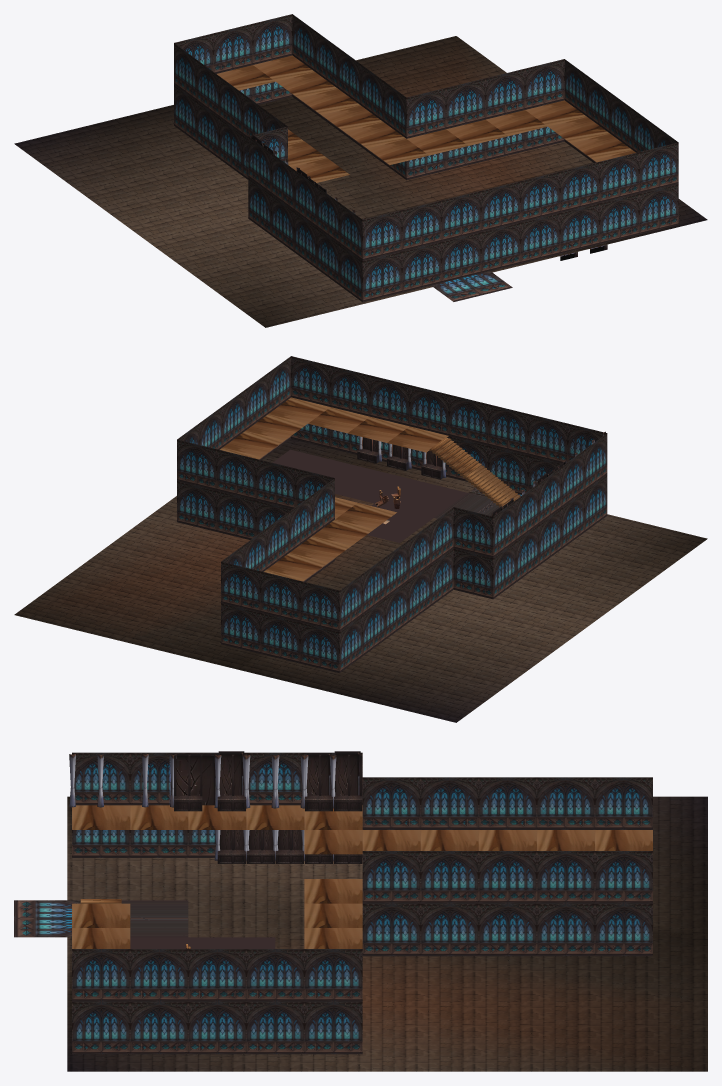
Rendered from inn_map_old.glb.
The picture shows the model from 3 angles, top to bottom: view 1: azimuth 30°, elevation 25°; view 2: azimuth 150°, elevation 25°; view 3: azimuth 270°, elevation 25°; orthographic projection. The views are drawn at different scales.
Visible parts, largest first — view 1: GroundPainted, Plane.001, Plane.003, Plane.024, Plane.037, Plane.042, Plane.044, Plane.045, Plane.057, Plane, Plane.002, Plane.027 (+60 smaller); view 2: GroundPainted, Dungeon, Plane.021, Plane.036, Plane.057, Plane.034, Plane.055, Plane.008, Plane.035, Plane.037, Plane.042, Plane.043 (+56 smaller); view 3: GroundPainted, Dungeon, Plane.068, Plane.004, Plane.005, Plane.006, Plane.007, Plane.012, Plane.013, Plane.014, Plane.030, Plane.031 (+47 smaller).
Boxes of the visible parts, bbox=[...] form: GroundPainted: bbox=[14, 36, 707, 327]; Plane.001: bbox=[560, 203, 599, 253]; Plane.003: bbox=[639, 184, 678, 234]; Plane.024: bbox=[481, 222, 520, 273]; Plane.037: bbox=[639, 142, 678, 193]; Plane.042: bbox=[525, 59, 564, 109]; Plane.044: bbox=[446, 78, 485, 128]; Plane.045: bbox=[406, 88, 445, 138]; Plane.057: bbox=[441, 190, 480, 241]; Plane: bbox=[520, 213, 559, 263]; Plane.002: bbox=[599, 193, 638, 244]; Plane.027: bbox=[362, 251, 401, 301]; GroundPainted: bbox=[14, 439, 707, 722]; Dungeon: bbox=[272, 449, 521, 542]; Plane.021: bbox=[453, 548, 493, 599]; Plane.036: bbox=[330, 366, 370, 416]; Plane.057: bbox=[488, 404, 528, 454]; Plane.034: bbox=[409, 385, 449, 435]; Plane.055: bbox=[453, 507, 493, 557]; Plane.008: bbox=[177, 481, 216, 531]; Plane.035: bbox=[370, 375, 409, 426]; Plane.037: bbox=[291, 356, 330, 406]; Plane.042: bbox=[177, 439, 216, 490]; Plane.043: bbox=[216, 449, 255, 499]; GroundPainted: bbox=[67, 796, 707, 1071]; Dungeon: bbox=[14, 900, 275, 948]; Plane.068: bbox=[304, 1001, 362, 1054]; Plane.004: bbox=[72, 1001, 130, 1054]; Plane.005: bbox=[130, 1001, 188, 1054]; Plane.006: bbox=[188, 1001, 246, 1054]; Plane.007: bbox=[246, 1001, 304, 1054]; Plane.012: bbox=[362, 903, 420, 956]; Plane.013: bbox=[420, 903, 478, 956]; Plane.014: bbox=[478, 903, 536, 956]; Plane.030: bbox=[537, 903, 594, 956]; Plane.031: bbox=[595, 903, 652, 956].
Bounding box in the file's own units: 89.56 × 19.34 × 95.57.
Materials: 8 (8 with a texture image).
